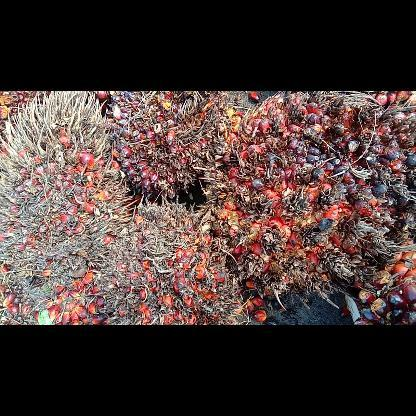Terlalu masak: (197, 91, 415, 311), (0, 90, 140, 312), (87, 194, 247, 324), (104, 91, 250, 204)
